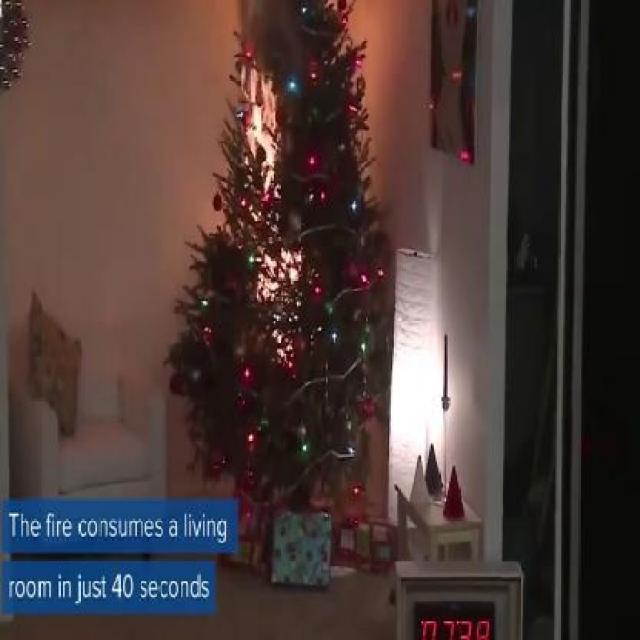fire: (235, 69, 288, 205)
